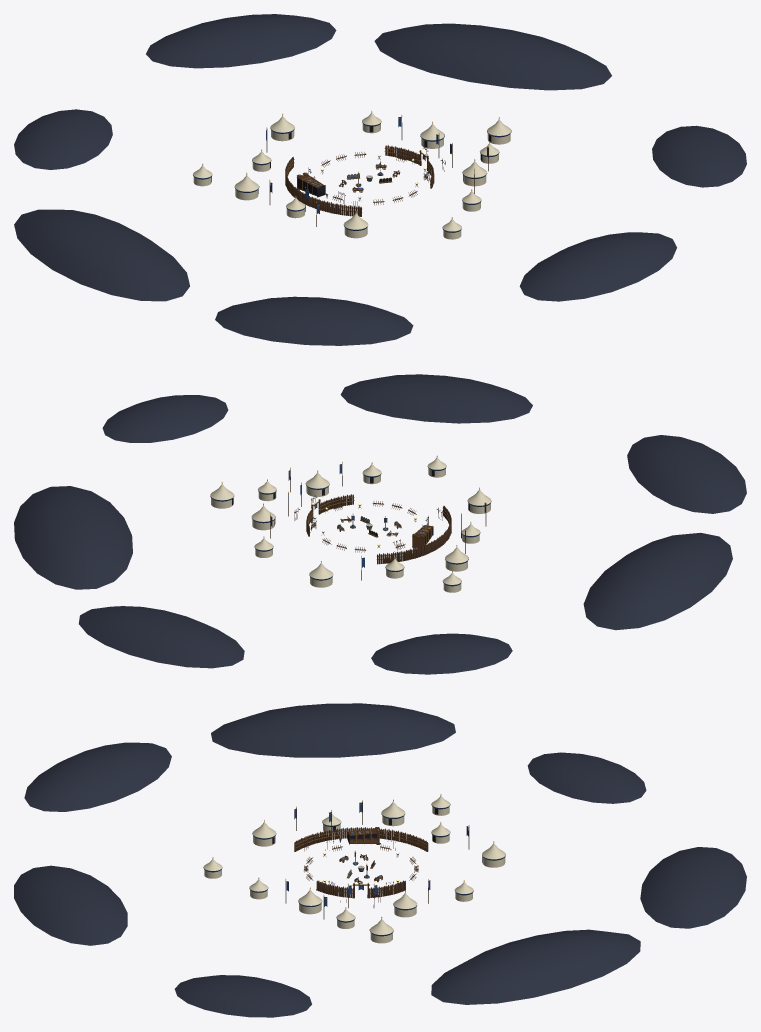
File: battlefield.glb
3 views of the same model, one above another, from view 1: azimuth 30°, elevation 25°; view 2: azimuth 150°, elevation 25°; view 3: azimuth 270°, elevation 25° (orthographic). The views are drawn at different scales.
Parts seen in each view (by area): view 1: back; view 2: back; view 3: back.
Part boxes in pixels (x1,y1,x2,y2): back: [14, 14, 746, 345]; back: [14, 374, 746, 674]; back: [14, 703, 746, 1017].
Bounding box in the file's own units: 206 × 7.81 × 207.
